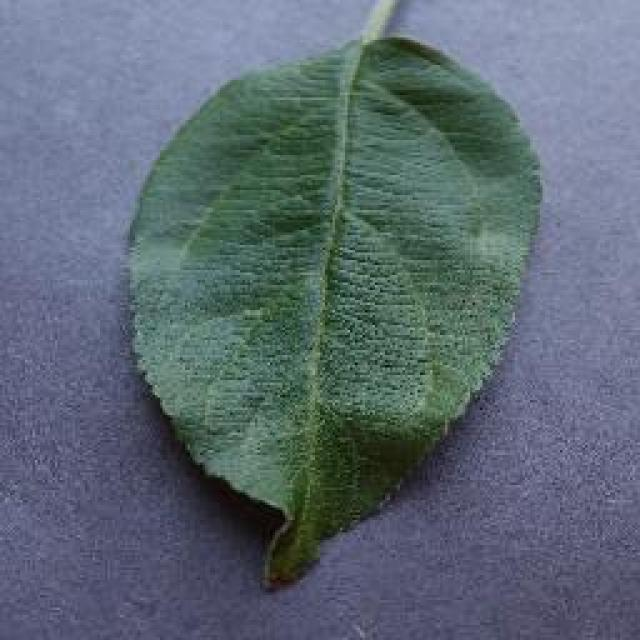apple healthy: (120, 25, 545, 590)
